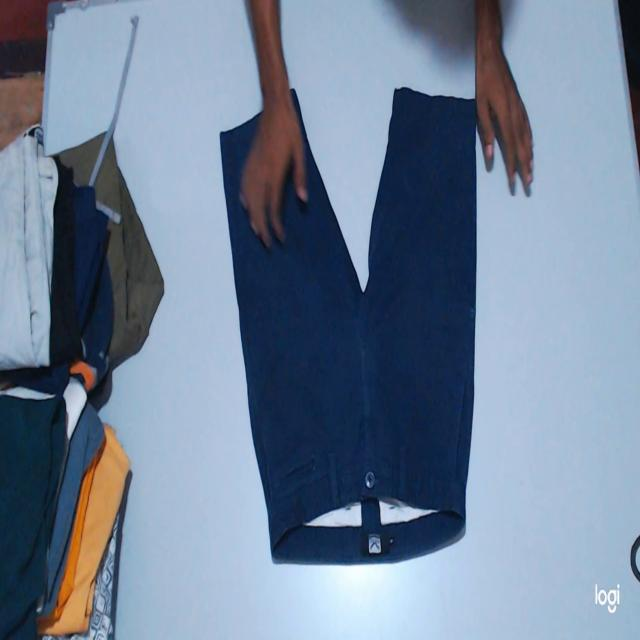new-garment: (220, 88, 476, 564)
